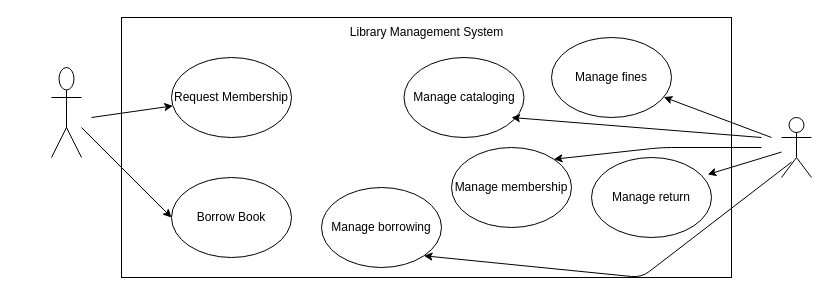
Some shapes in this 829 by 303 pixel diagram are drawn without their labels. Each missing label, with the box of its shape:
Customer/Member: (50, 66, 82, 158)
Staff: (780, 116, 812, 178)
